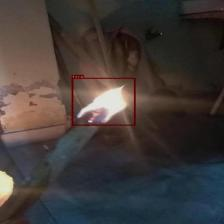fire: (72, 78, 135, 125)
